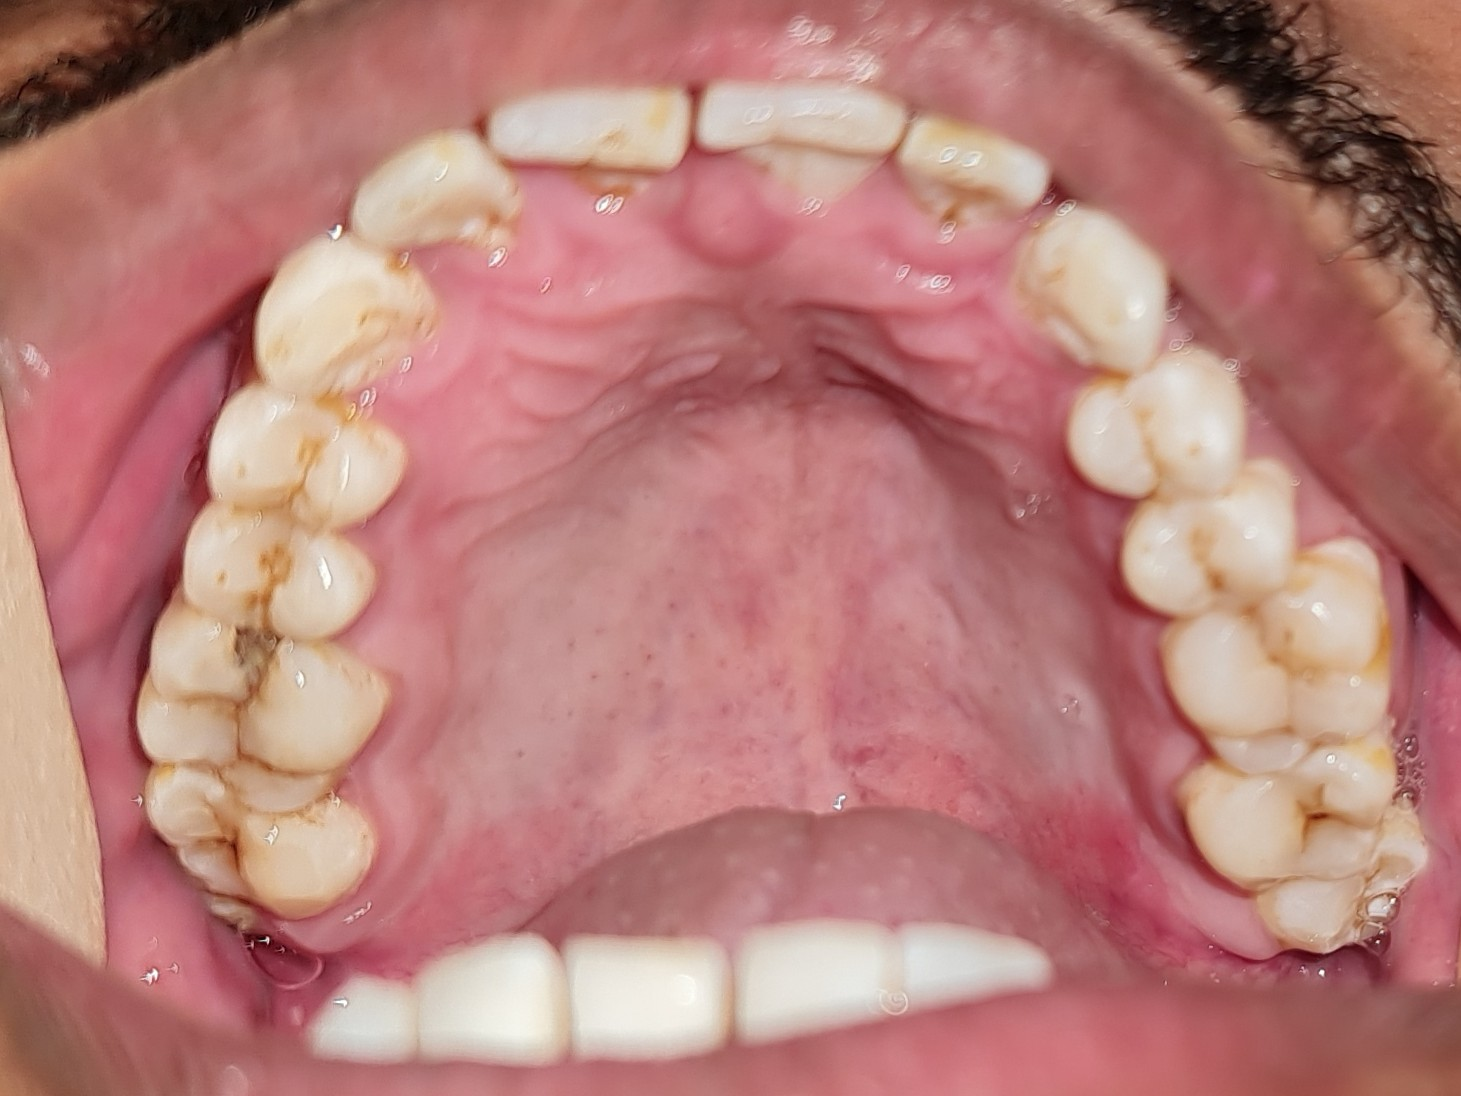D: (132, 594, 386, 813), (139, 766, 371, 920), (1179, 742, 1420, 889)
